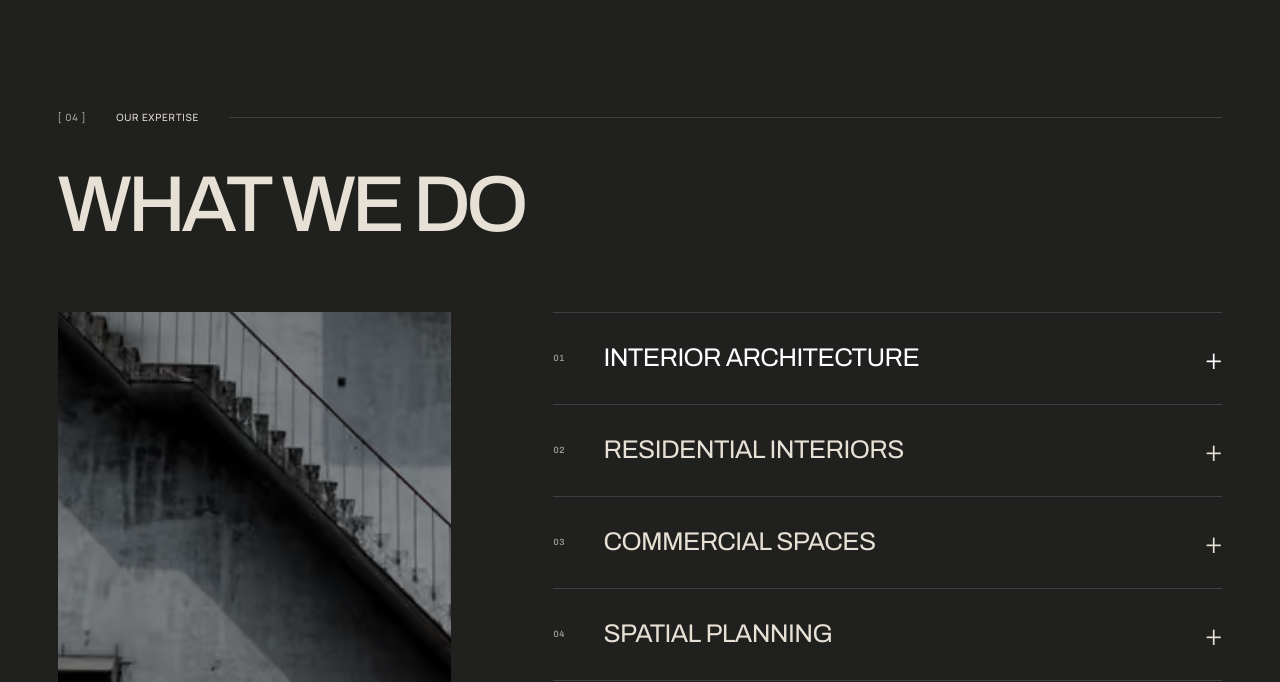
Test case: interactive compositions › allows services to be expanded with a click and closed again
The width and height of the screenshot is (1280, 682).
Click the button "02 RESIDENTIAL INTERIORS RESIDENTIAL INTERIORS +" at [888, 451], box [554,405,1222,496]
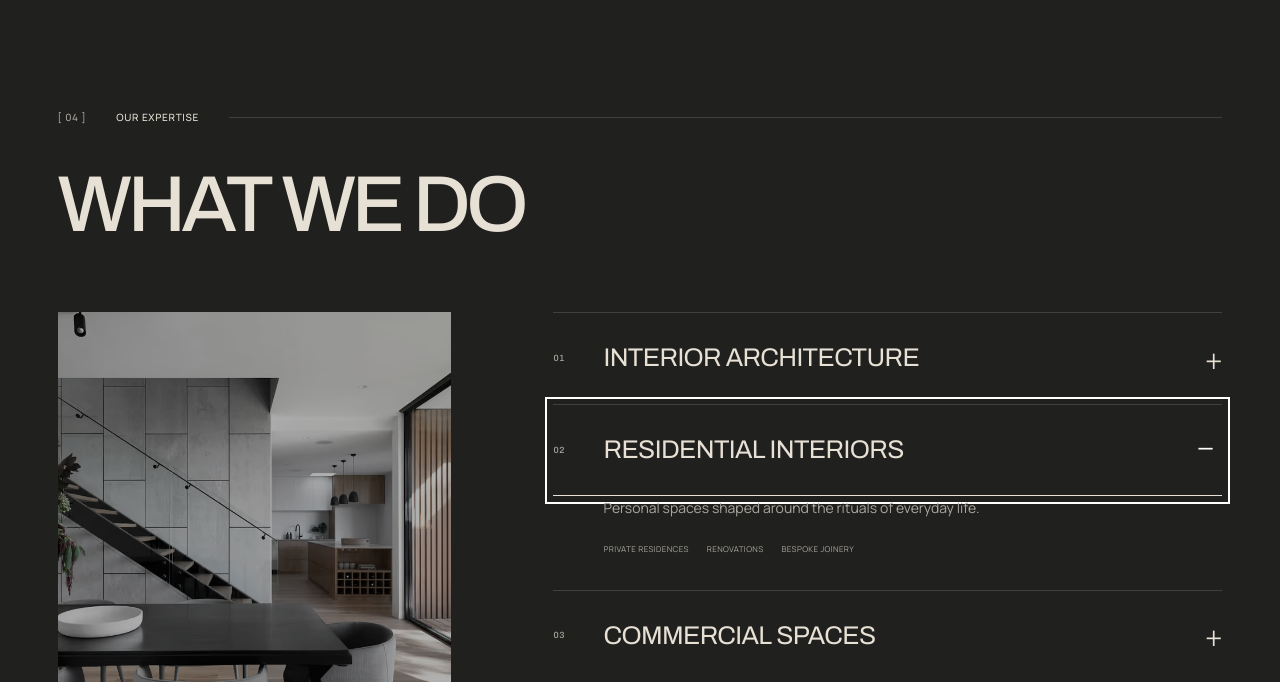
Expected: the button "02 RESIDENTIAL INTERIORS RESIDENTIAL INTERIORS −" is expanded
Expected: the list item "Private residences" is shown, [604,543,689,554]
Click the button "02 RESIDENTIAL INTERIORS RESIDENTIAL INTERIORS −" at [888, 451], box [554,405,1222,496]
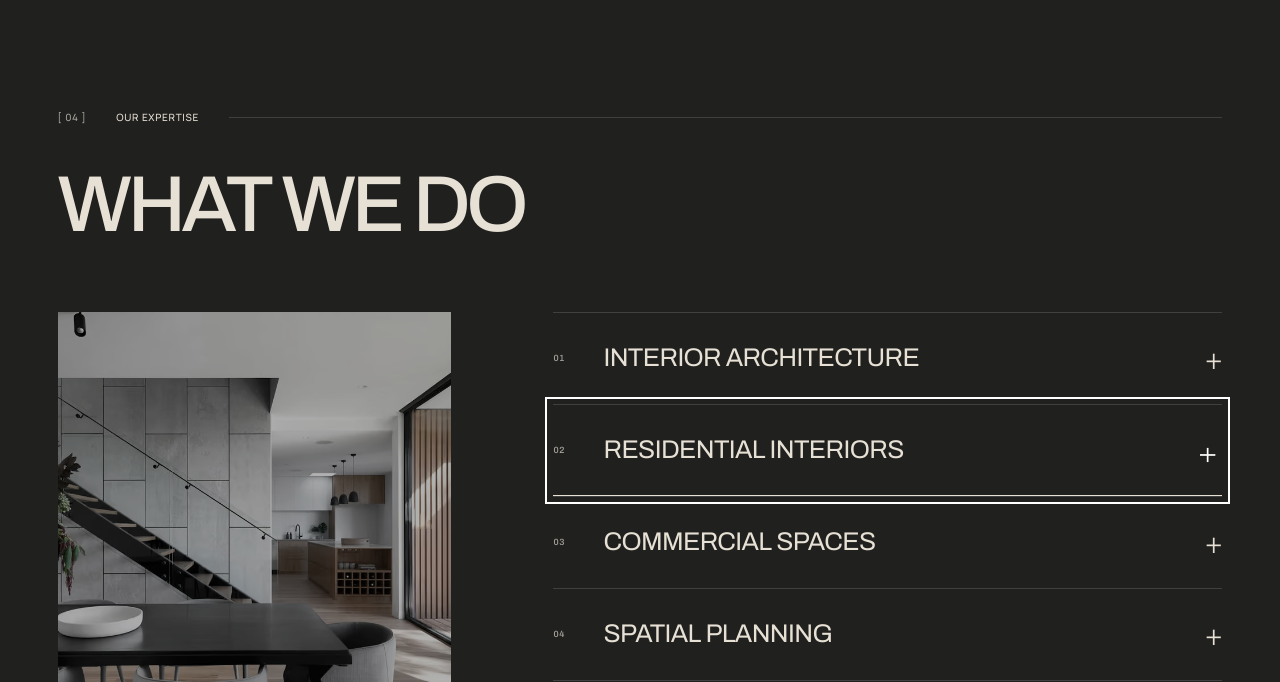
Expected: the button "02 RESIDENTIAL INTERIORS RESIDENTIAL INTERIORS +" is collapsed, [554,405,1222,496]
